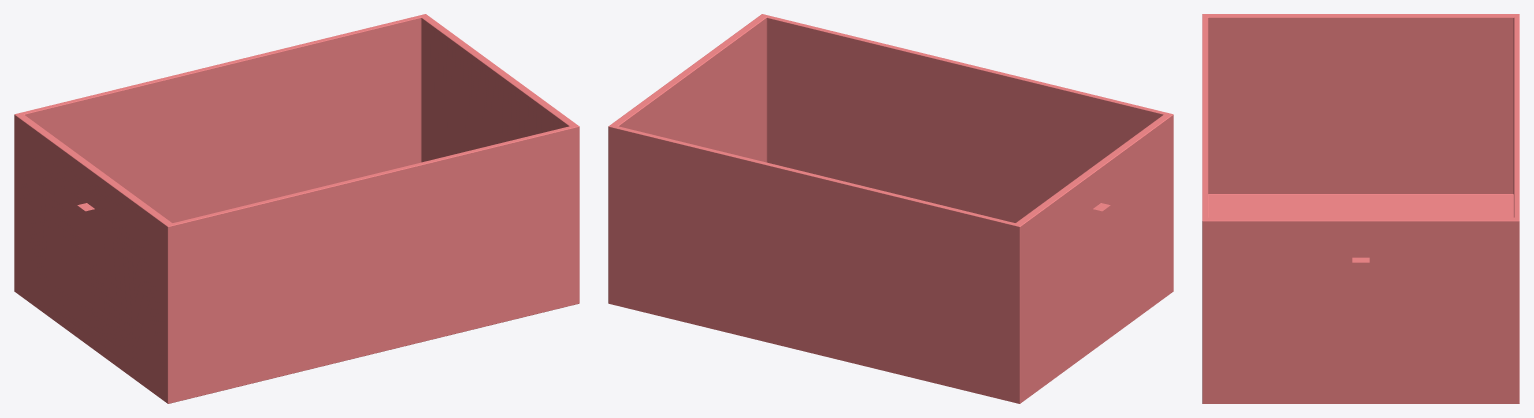
The model's file is kırmızıplastik.fbx.
The picture shows the model from 3 angles, left to right: view 1: azimuth 30°, elevation 25°; view 2: azimuth 150°, elevation 25°; view 3: azimuth 270°, elevation 25°; orthographic projection. The views are drawn at different scales.
Visible parts, largest first — view 1: Cube; view 2: Cube; view 3: Cube.
Boxes of the visible parts, box(x1,y1,x2,y2) form: Cube: box(14, 14, 579, 403); Cube: box(608, 14, 1173, 403); Cube: box(1202, 14, 1519, 403).
Bounding box in the file's own units: 178 × 70 × 110.
